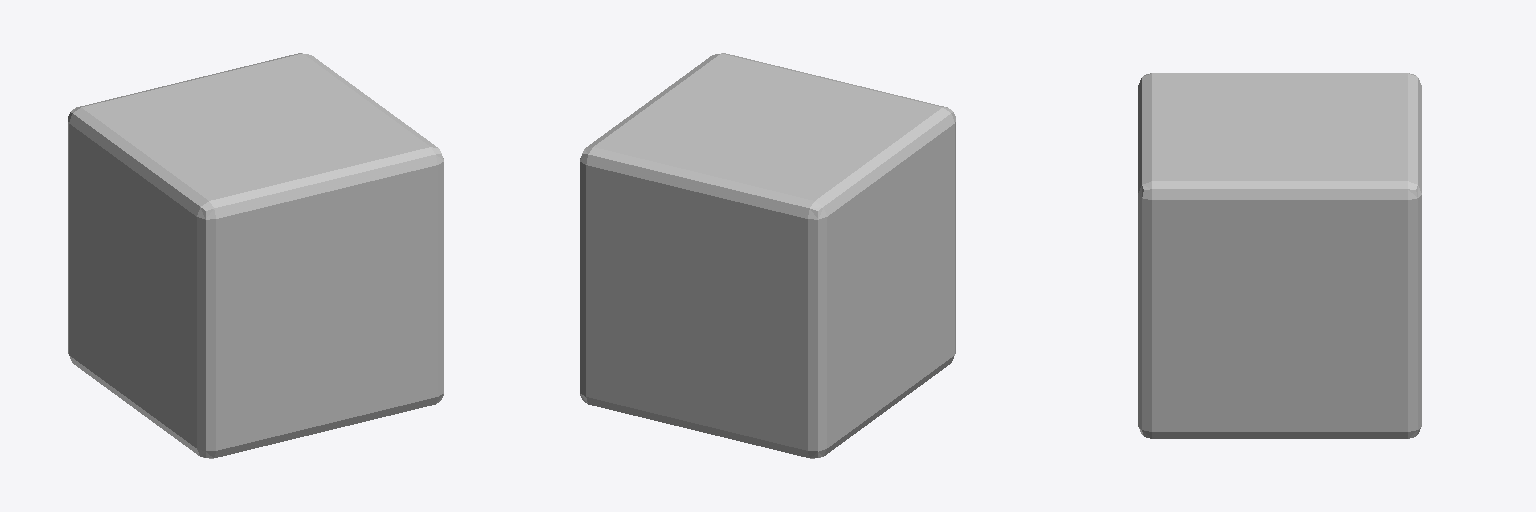
File: dice.obj
3 renders of one model, left to right at view 1: azimuth 30°, elevation 25°; view 2: azimuth 150°, elevation 25°; view 3: azimuth 270°, elevation 25°, orthographic.
Size of the model in its own units: 0.66 by 0.66 by 0.66.